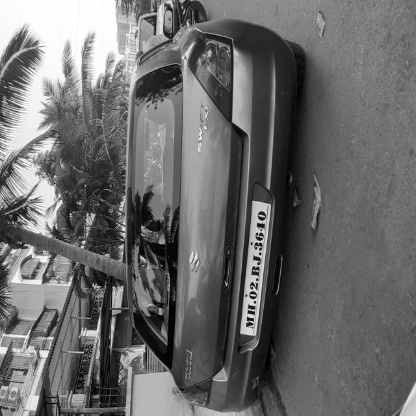car: (0, 254, 195, 416)
